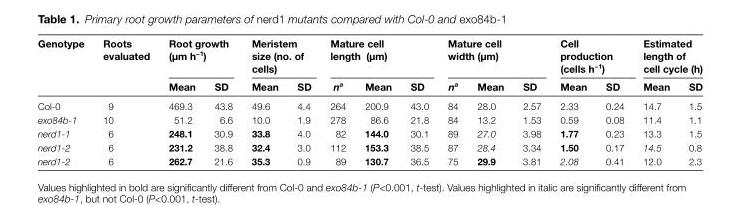table: (36, 36, 702, 166)
table column: (92, 36, 158, 166), (36, 36, 92, 166), (158, 36, 204, 166), (241, 36, 287, 166), (354, 36, 400, 166), (549, 36, 595, 166), (632, 36, 678, 166), (467, 36, 512, 166), (204, 36, 241, 166), (400, 36, 437, 166), (512, 36, 549, 166), (595, 36, 632, 166), (320, 36, 354, 166), (287, 36, 320, 166), (437, 36, 467, 166), (678, 36, 702, 166)
table column header: (36, 36, 702, 95)
table row: (36, 36, 702, 76), (36, 76, 702, 95), (36, 95, 702, 112), (36, 112, 702, 126), (36, 139, 702, 153), (36, 126, 702, 139), (36, 153, 702, 166)
table spanning cell: (320, 36, 437, 76), (437, 36, 549, 76), (92, 36, 158, 95), (158, 36, 241, 76), (549, 36, 632, 76), (36, 36, 92, 95), (241, 36, 320, 76), (632, 36, 702, 76)
